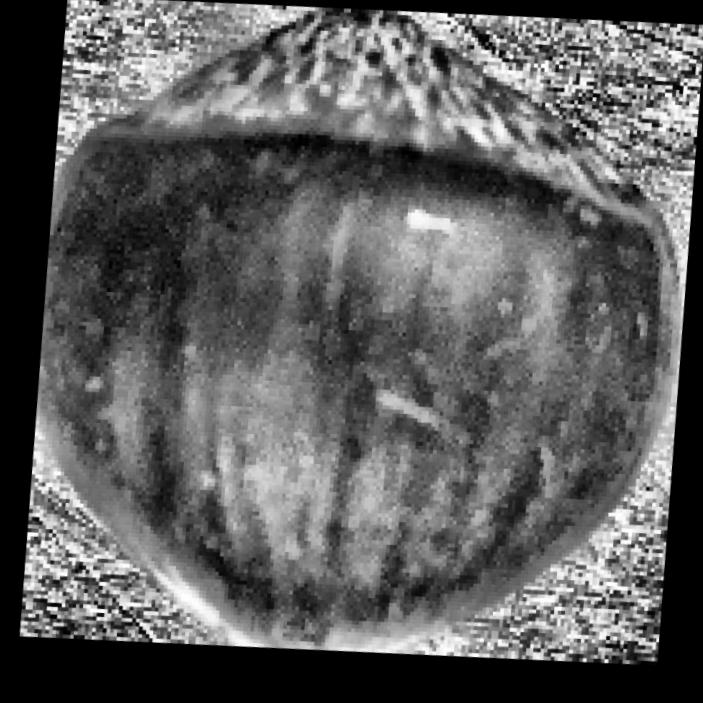damagedHazelnut: (0, 0, 703, 703)
